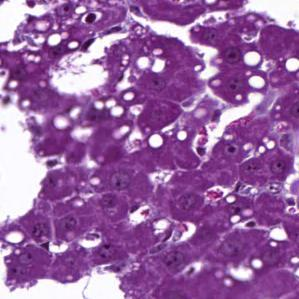ballooning: (46, 50, 113, 98)
